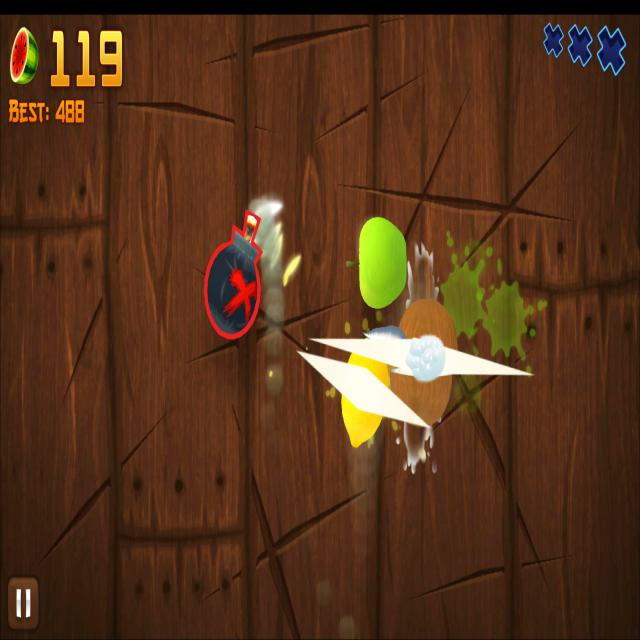bomb: (204, 208, 264, 340)
fruit: (390, 298, 458, 425), (341, 338, 389, 449), (358, 216, 408, 308)
